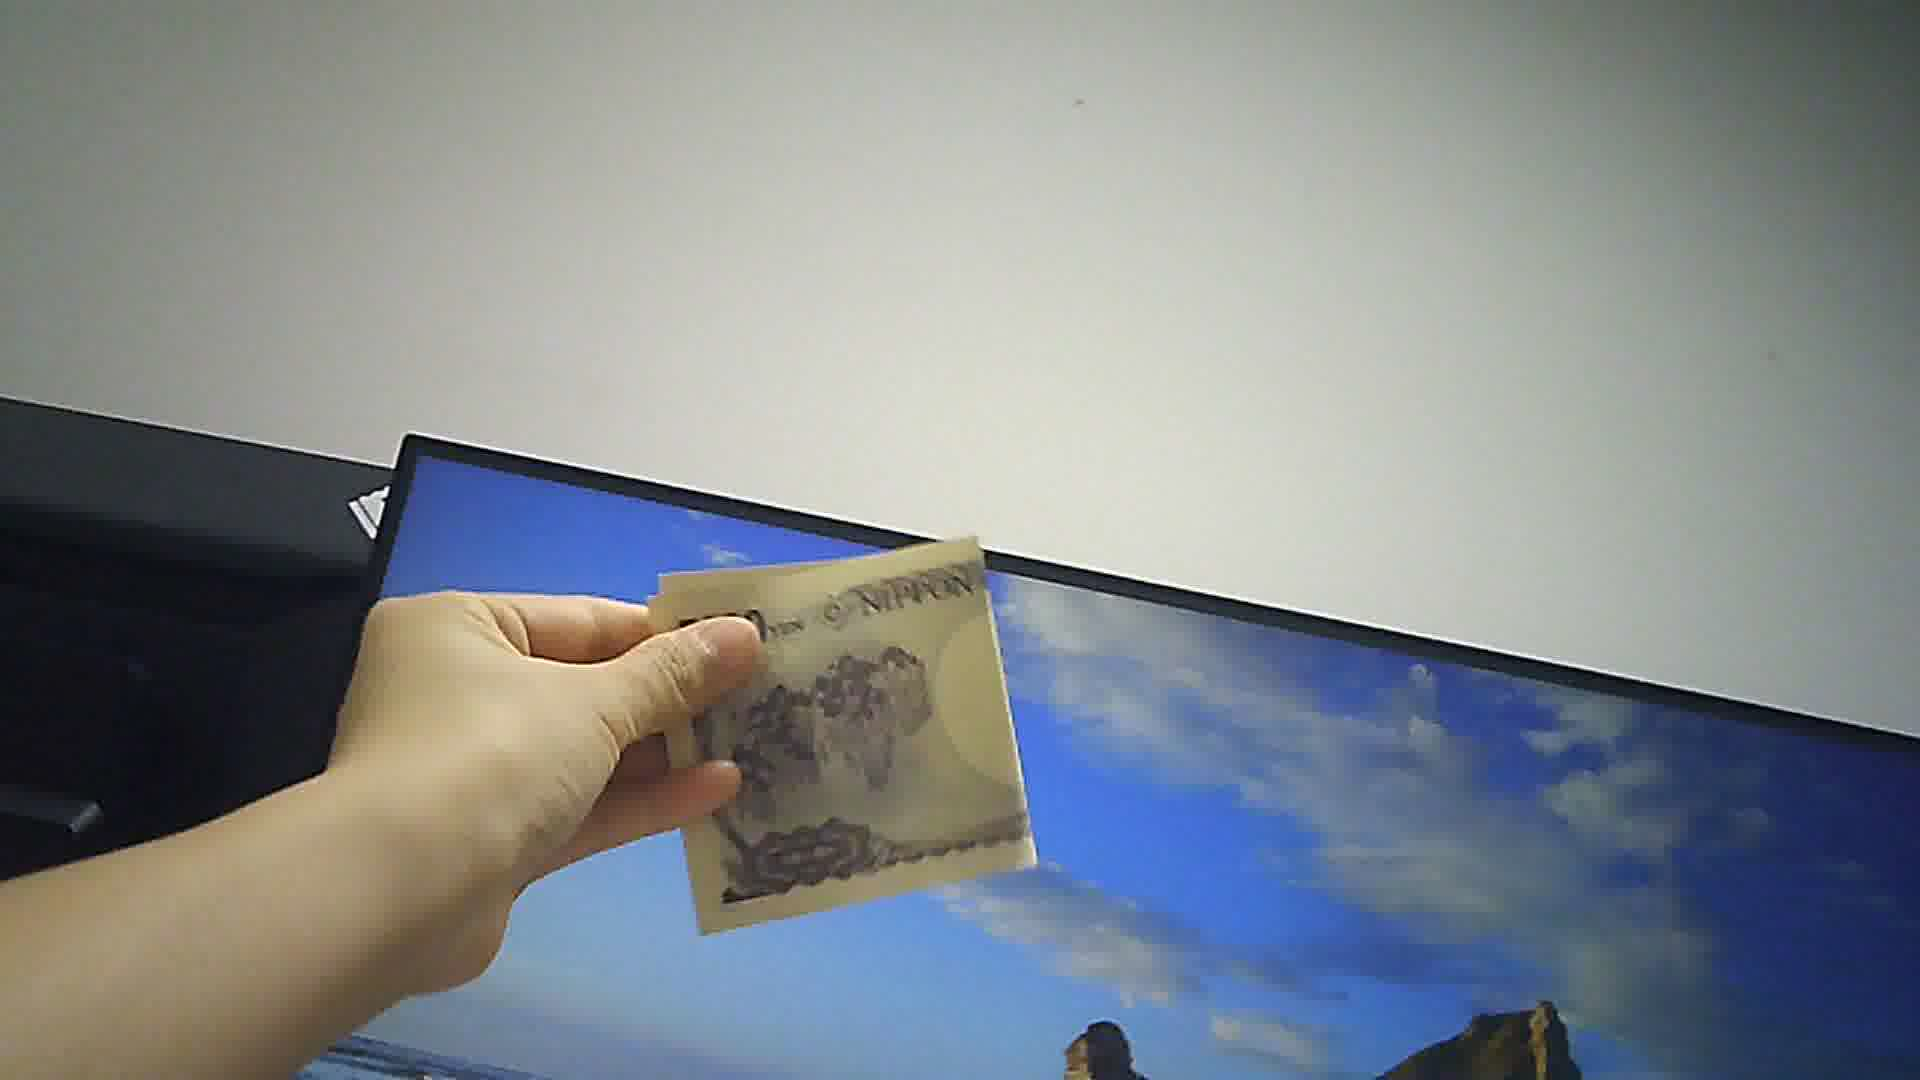5,000 Yen: (626, 512, 1040, 932)
